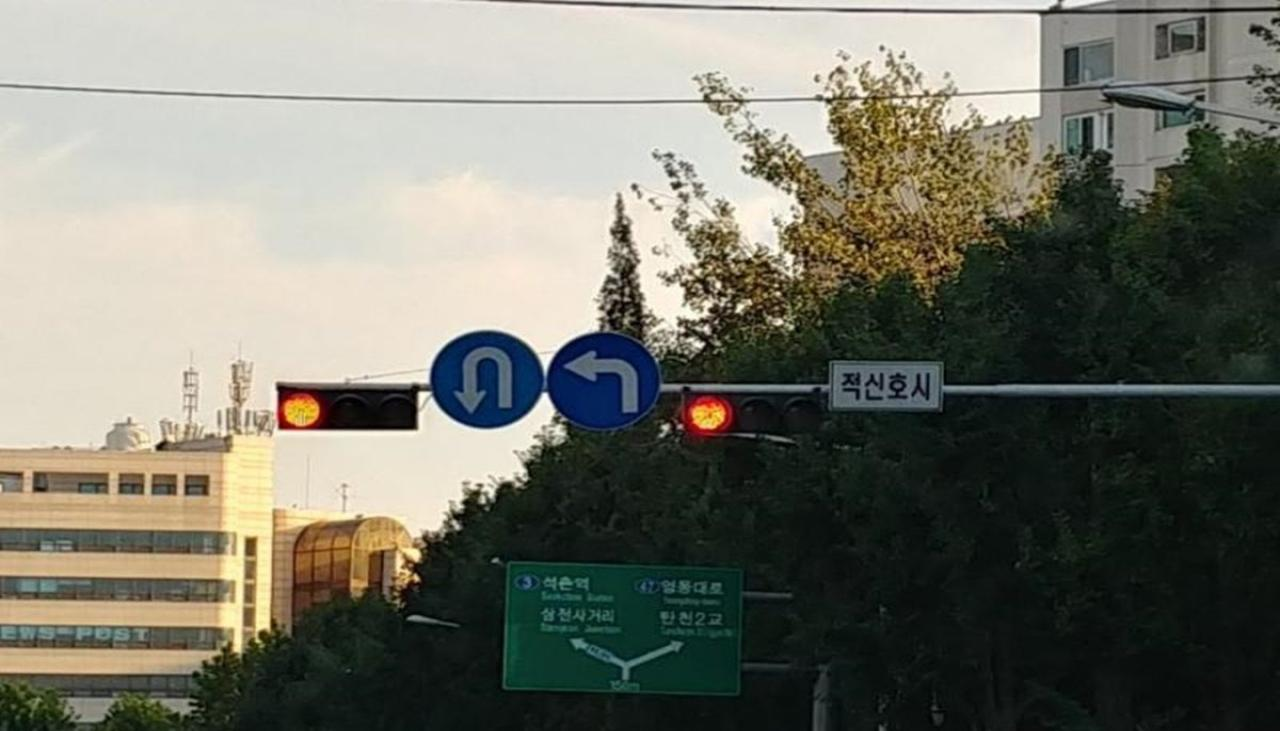Red Light: (278, 387, 326, 428), (683, 395, 732, 435)
